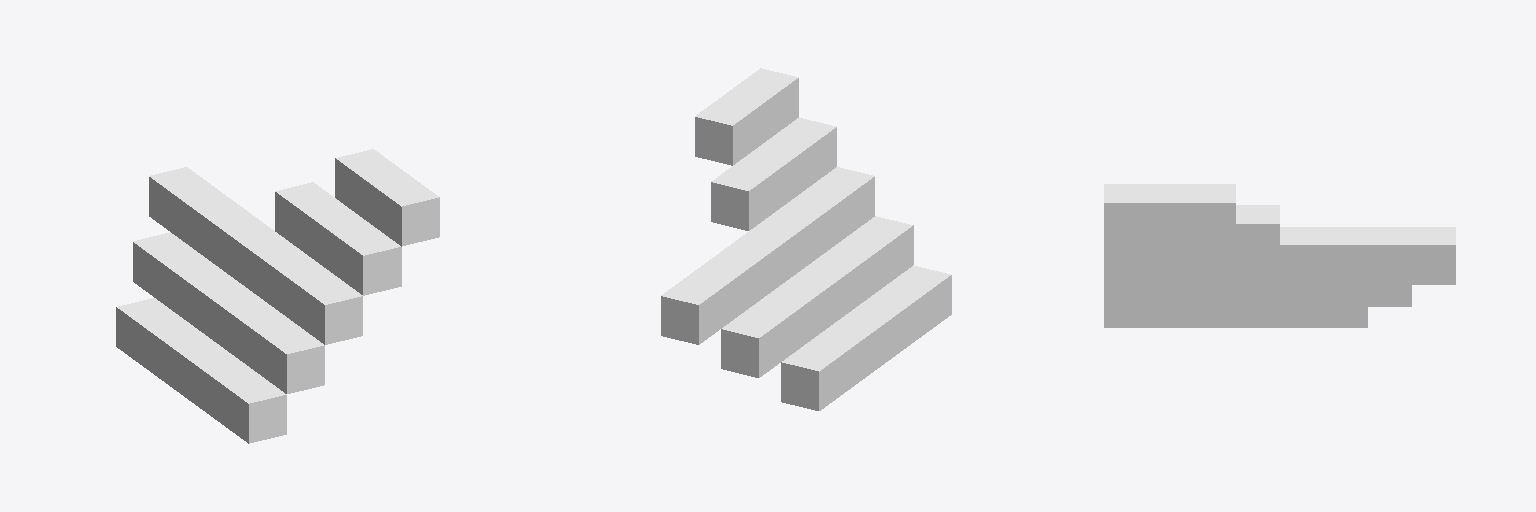
Rendered from YellowHouseParts-104.obj.
The picture shows the model from 3 angles: view 1: azimuth 30°, elevation 25°; view 2: azimuth 150°, elevation 25°; view 3: azimuth 270°, elevation 25°; orthographic projection.
Parts seen in each view (by area): view 1: object 1; view 2: object 1; view 3: object 1.
Boxes of the visible parts, <box> form: object 1: <box>116,149,439,443</box>; object 1: <box>661,68,951,410</box>; object 1: <box>1104,184,1455,327</box>.
Bounding box in the file's own units: 0.5 × 0.5 × 0.8.